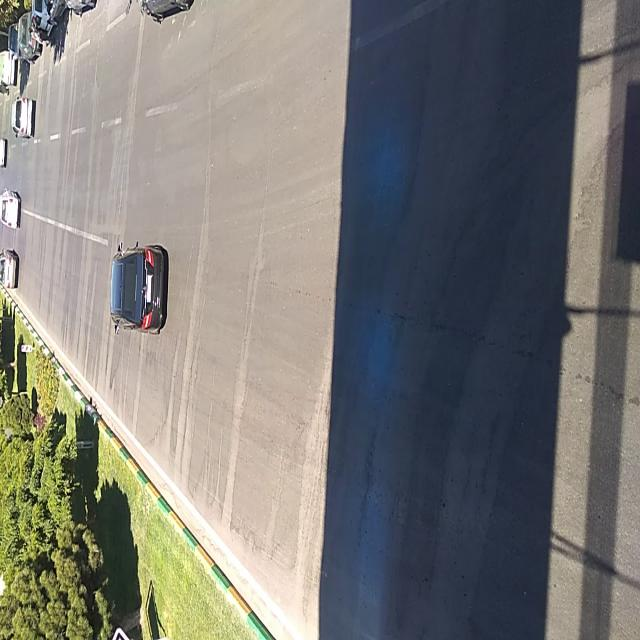car: (105, 238, 170, 334), (10, 98, 38, 136), (2, 191, 22, 234)
